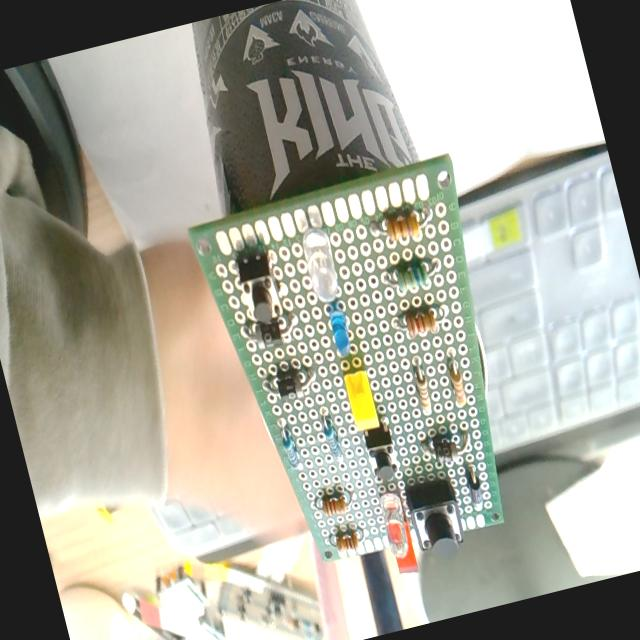diode: (240, 308, 302, 354), (262, 362, 321, 406), (421, 426, 475, 470), (462, 464, 486, 508)
led: (297, 223, 343, 305), (376, 490, 414, 560), (342, 368, 382, 434), (326, 308, 355, 358)
resistor: (368, 201, 433, 243), (383, 256, 441, 295), (276, 416, 304, 472), (411, 363, 435, 415), (404, 306, 440, 340), (446, 361, 468, 408), (320, 417, 343, 459), (321, 492, 348, 519), (334, 530, 360, 556)
switch: (403, 476, 468, 561), (233, 248, 288, 327), (362, 422, 402, 486)
